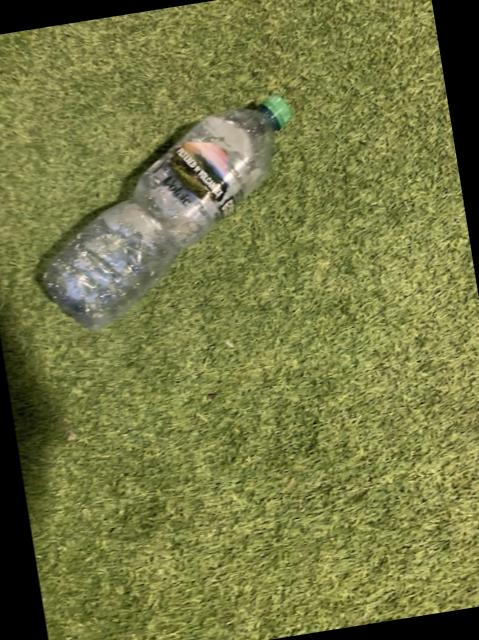plastic: (42, 94, 288, 327)
